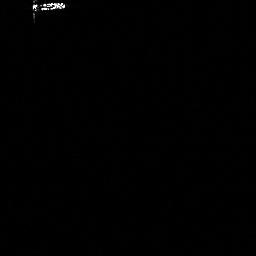ship: (30, 1, 66, 22)
